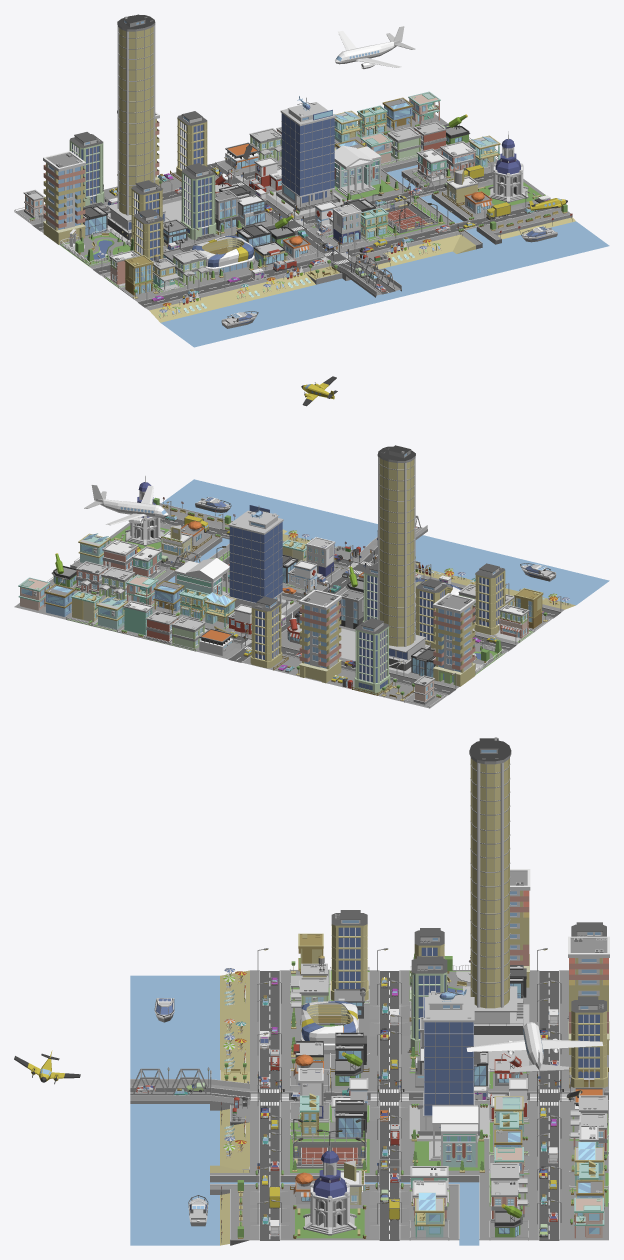
The model's file is Tile_pack_city_3_city.fbx.
3 views of the same model, one above another, from view 1: azimuth 30°, elevation 25°; view 2: azimuth 150°, elevation 25°; view 3: azimuth 270°, elevation 25° (orthographic). The views are drawn at different scales.
Visible parts, largest first — view 1: skyscraoer.005, home_business_centers.006, home_living_1.010, home_living_1.004, home_art.002, stadiums.002, home_living_1.007, park.001, home_living_1.006, home_temple.001, landscape_entertainments.002, home_living_1.009 (+51 smaller); view 2: skyscraoer.005, home_business_centers.006, home_living_1.005, home_living_1.010, home_living_1.007, home_living_1.006, home_living_1.009, home_art.002, transport_air.001, home_living_1.003, home_temple.001, home_bank.004 (+30 smaller); view 3: skyscraoer.005, home_business_centers.006, home_living_1.006, home_living_1.009, home_living_1.005, home_temple.001, home_art.002, stadiums.002, landscape_entertainments.002, home_living_1.010, transport_air.001, home_living_1.004 (+85 smaller).
Boxes of the visible parts, left/top/right/bottom form: skyscraoer.005: left=106, top=14, right=169, bottom=239; home_business_centers.006: left=276, top=102, right=340, bottom=211; home_living_1.010: left=43, top=151, right=85, bottom=244; home_living_1.004: left=180, top=163, right=216, bottom=240; home_art.002: left=334, top=145, right=381, bottom=196; stadiums.002: left=192, top=235, right=263, bottom=280; home_living_1.007: left=69, top=132, right=104, bottom=206; park.001: left=59, top=227, right=133, bottom=266; home_living_1.006: left=176, top=111, right=207, bottom=177; home_temple.001: left=488, top=131, right=528, bottom=202; landscape_entertainments.002: left=372, top=186, right=445, bottom=235; home_living_1.009: left=133, top=209, right=163, bottom=260; skyscraoer.005: left=377, top=445, right=430, bottom=670; home_business_centers.006: left=228, top=505, right=288, bottom=608; home_living_1.005: left=299, top=589, right=341, bottom=683; home_living_1.010: left=432, top=593, right=475, bottom=686; home_living_1.007: left=354, top=618, right=390, bottom=694; home_living_1.006: left=250, top=596, right=282, bottom=668; home_living_1.009: left=474, top=563, right=505, bottom=634; home_art.002: left=175, top=558, right=229, bottom=596; transport_air.001: left=84, top=484, right=168, bottom=525; home_living_1.003: left=416, top=578, right=447, bottom=649; home_temple.001: left=125, top=476, right=165, bottom=546; home_bank.004: left=171, top=616, right=207, bottom=649; skyscraoer.005: left=463, top=737, right=523, bottom=1034; home_business_centers.006: left=417, top=991, right=479, bottom=1135; home_living_1.006: left=570, top=996, right=607, bottom=1087; home_living_1.009: left=330, top=910, right=368, bottom=1000; home_living_1.005: left=568, top=936, right=609, bottom=1054; home_temple.001: left=303, top=1140, right=356, bottom=1235; home_art.002: left=429, top=1105, right=478, bottom=1167; stadiums.002: left=290, top=1001, right=369, bottom=1054; landscape_entertainments.002: left=290, top=1119, right=369, bottom=1172; home_living_1.010: left=510, top=869, right=530, bottom=987; transport_air.001: left=466, top=1022, right=602, bottom=1072; home_living_1.004: left=407, top=956, right=447, bottom=1053.
Size of the model in its own units: 64.12 by 31.7 by 59.74.
